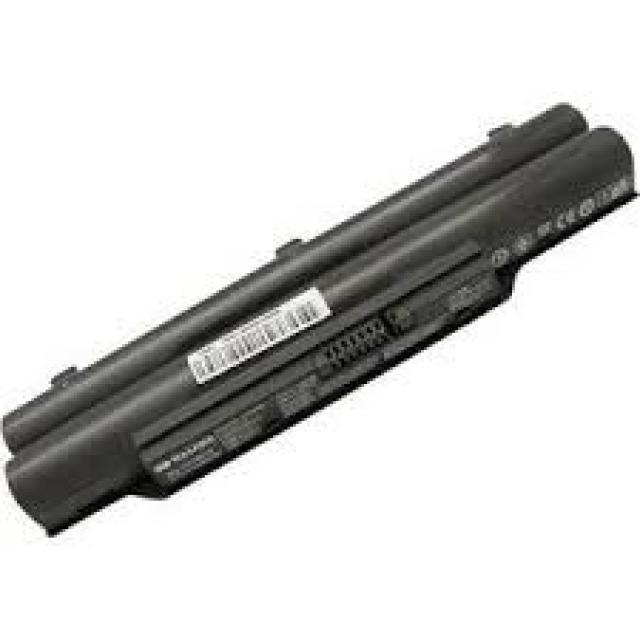battery: (4, 106, 639, 540)
